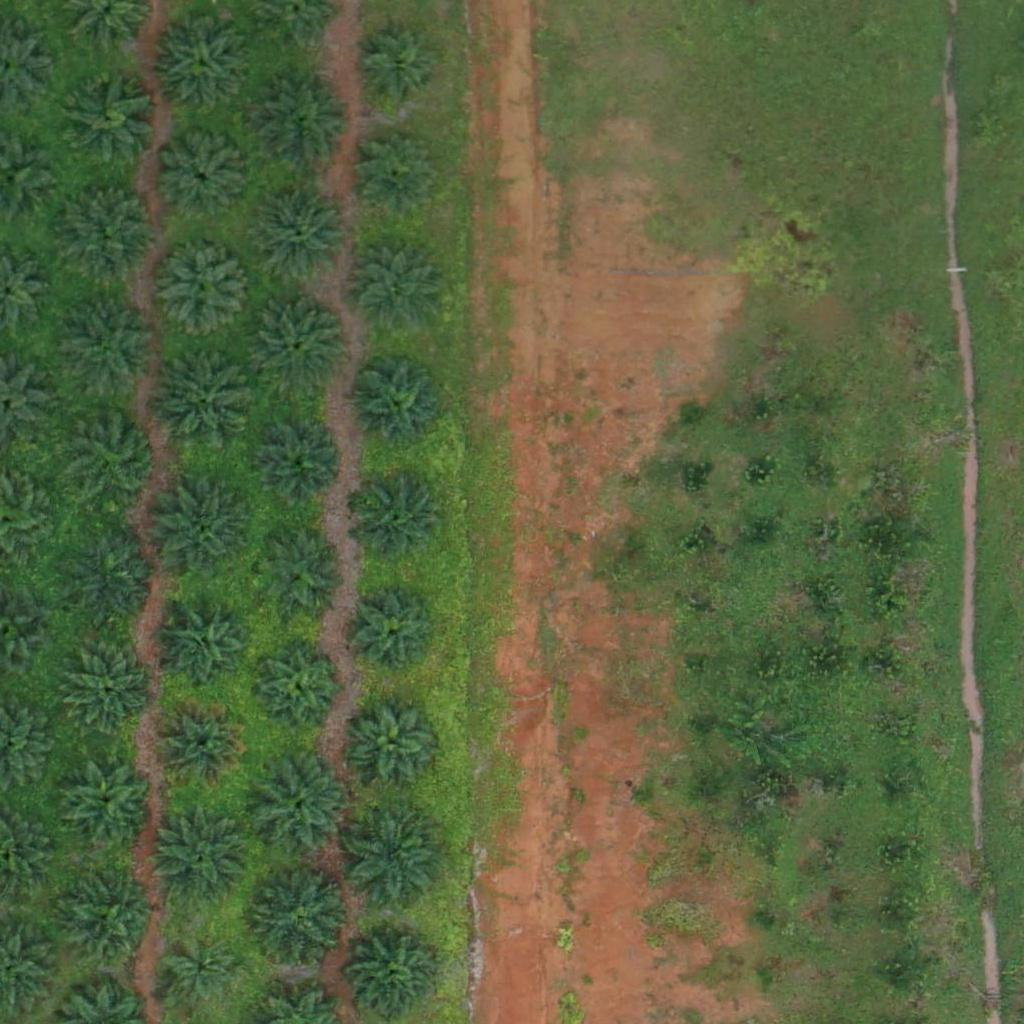Kelapa_Sawit: (57, 179, 157, 280), (62, 300, 162, 401), (153, 239, 253, 340), (152, 350, 252, 451), (153, 483, 253, 584), (255, 184, 355, 285), (248, 295, 348, 396), (347, 354, 447, 455), (57, 754, 157, 855), (58, 870, 158, 971), (251, 73, 351, 173), (151, 12, 251, 112), (57, 69, 157, 169), (65, 409, 165, 509), (64, 529, 164, 629), (342, 804, 442, 904), (247, 756, 347, 856), (249, 870, 349, 970), (152, 808, 252, 908), (159, 135, 247, 224), (353, 28, 441, 116), (253, 419, 341, 507), (355, 475, 443, 563), (351, 589, 439, 677), (352, 699, 440, 787), (66, 646, 154, 734), (257, 531, 344, 619), (353, 129, 440, 217), (353, 244, 440, 332), (162, 603, 249, 691), (254, 642, 341, 730), (158, 700, 245, 788), (164, 936, 239, 1012)
